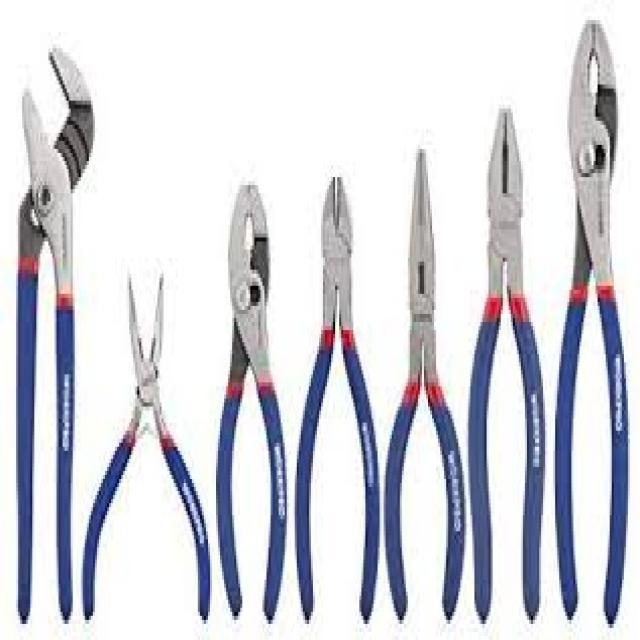pliers: (0, 26, 96, 638), (366, 141, 470, 640), (83, 268, 217, 640), (555, 0, 632, 640), (198, 161, 296, 640), (288, 159, 381, 640), (467, 111, 548, 640)
